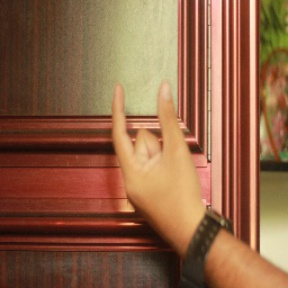U: (104, 69, 204, 209)
